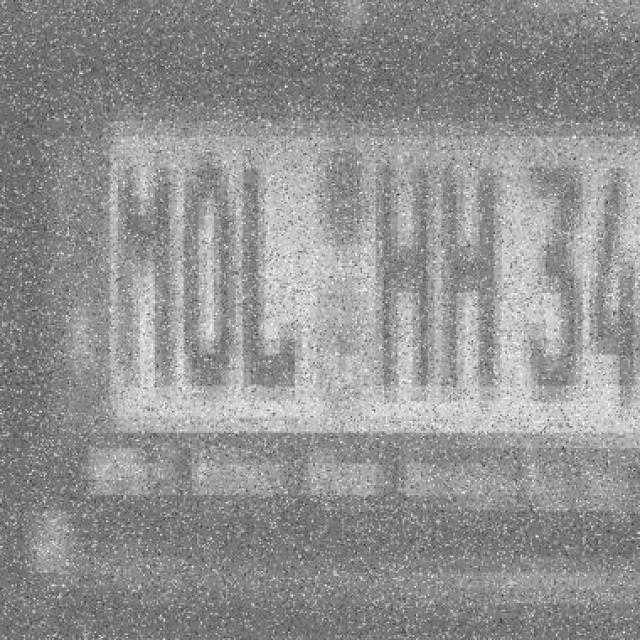licenseplate: (32, 83, 640, 511)
